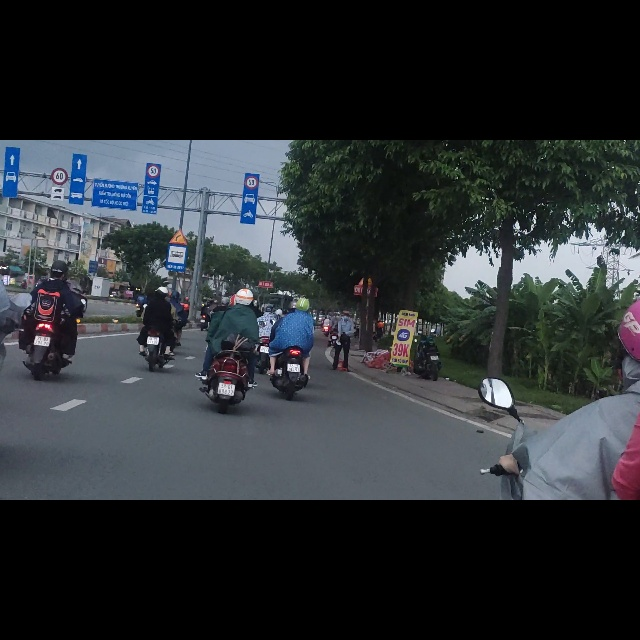bien_nguy_hiem: (166, 185, 187, 233), (169, 156, 188, 186), (50, 49, 68, 80), (50, 82, 64, 108), (146, 43, 160, 67), (245, 63, 258, 87)
